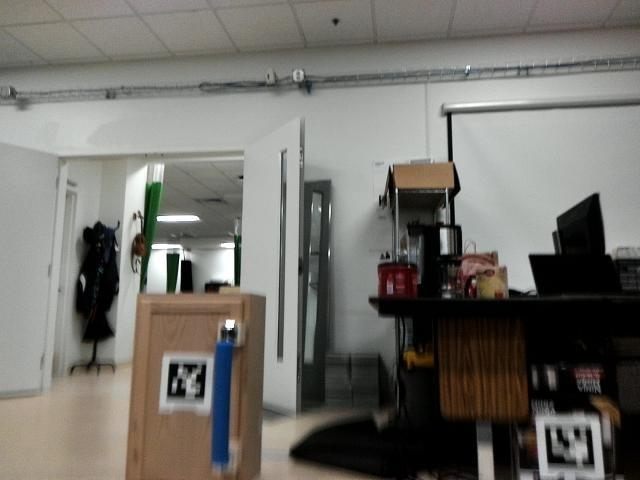noodle_handle: (210, 332, 233, 473)
